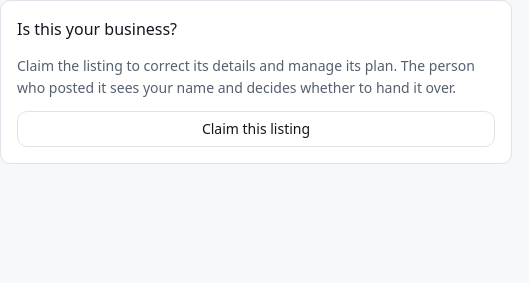
Test case: ClaimPanel › keeps the form and explains a listing that is already claimed
Click the button "Claim this listing" at (256, 129), box [17, 111, 495, 147]
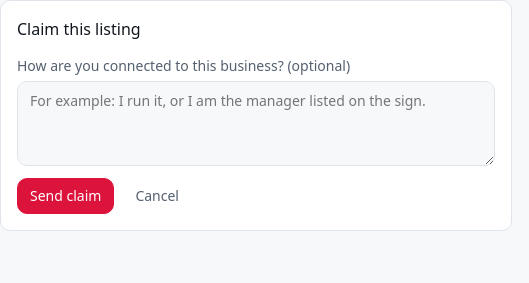
Click the button "Send claim" at (66, 196), box [17, 178, 114, 214]
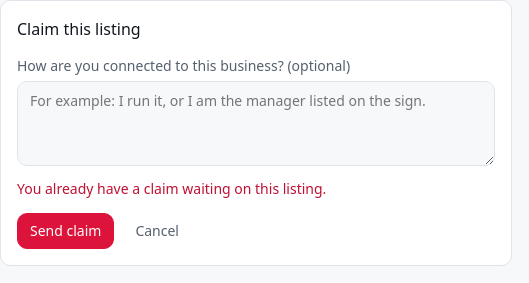
Expected: the button "Send claim" is shown, [17, 212, 114, 248]
Expected: the text "You already have a claim waiting on this listing." is shown, [17, 179, 326, 198]
